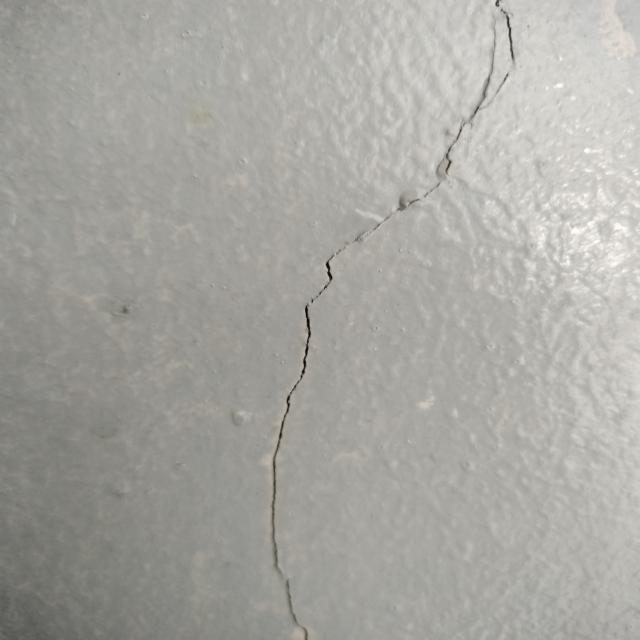Crack: (268, 4, 520, 635)
